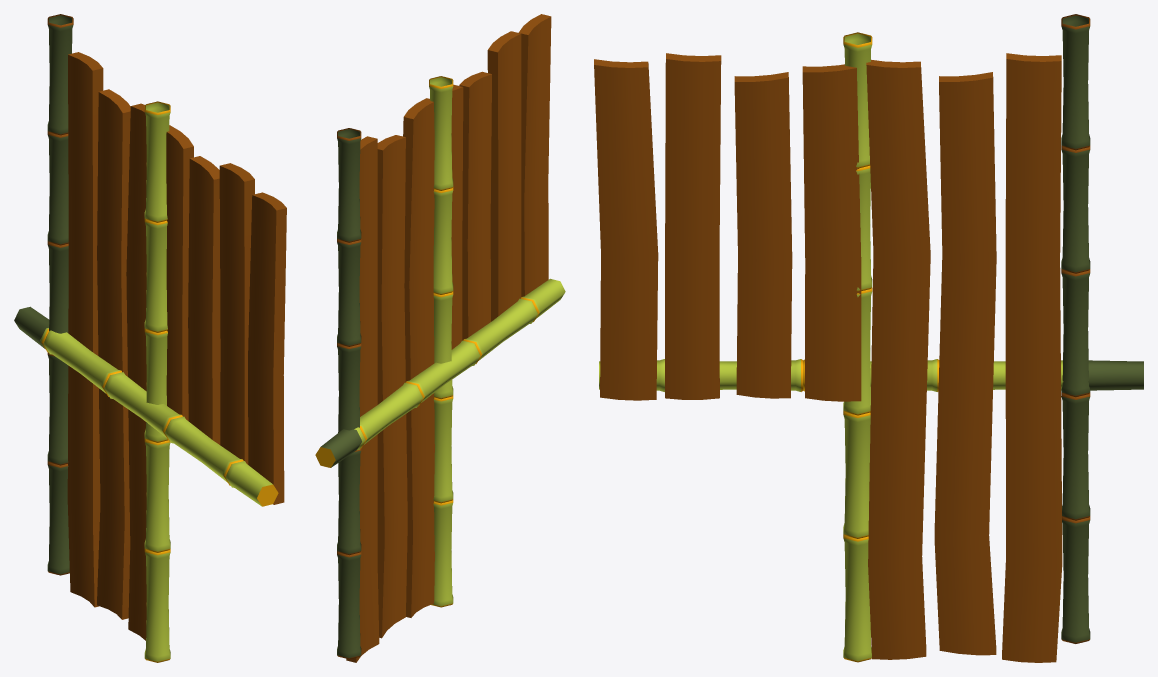
File: Jungle_Door.fbx
The picture shows the model from 3 angles, left to right: view 1: azimuth 30°, elevation 25°; view 2: azimuth 150°, elevation 25°; view 3: azimuth 270°, elevation 25°; orthographic projection. The views are drawn at different scales.
Parts seen in each view (by area): view 1: Jungle_Door; view 2: Jungle_Door; view 3: Jungle_Door.
Part boxes in pixels (left/top/right/bottom): Jungle_Door: left=14, top=14, right=286, bottom=662; Jungle_Door: left=315, top=14, right=565, bottom=662; Jungle_Door: left=594, top=14, right=1143, bottom=662.
Bounding box in the file's own units: 0.315 × 5.15 × 4.04.
